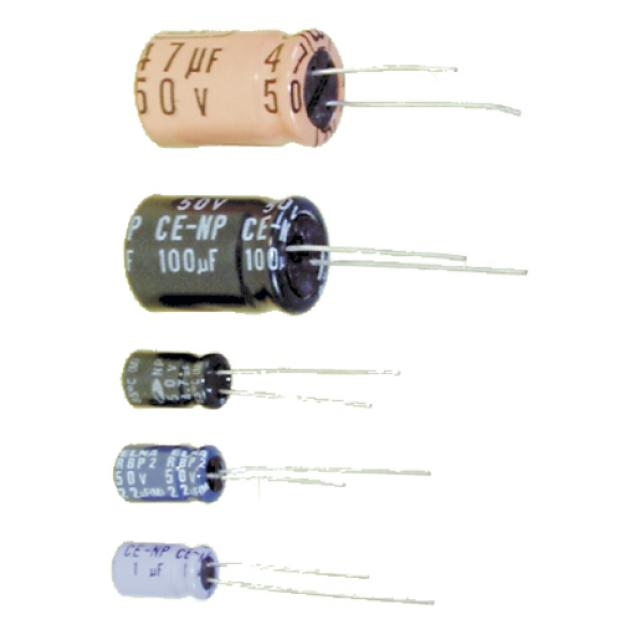Capacitor: (125, 195, 526, 313), (135, 29, 520, 148), (112, 541, 434, 606), (114, 445, 431, 502), (122, 351, 398, 408)
